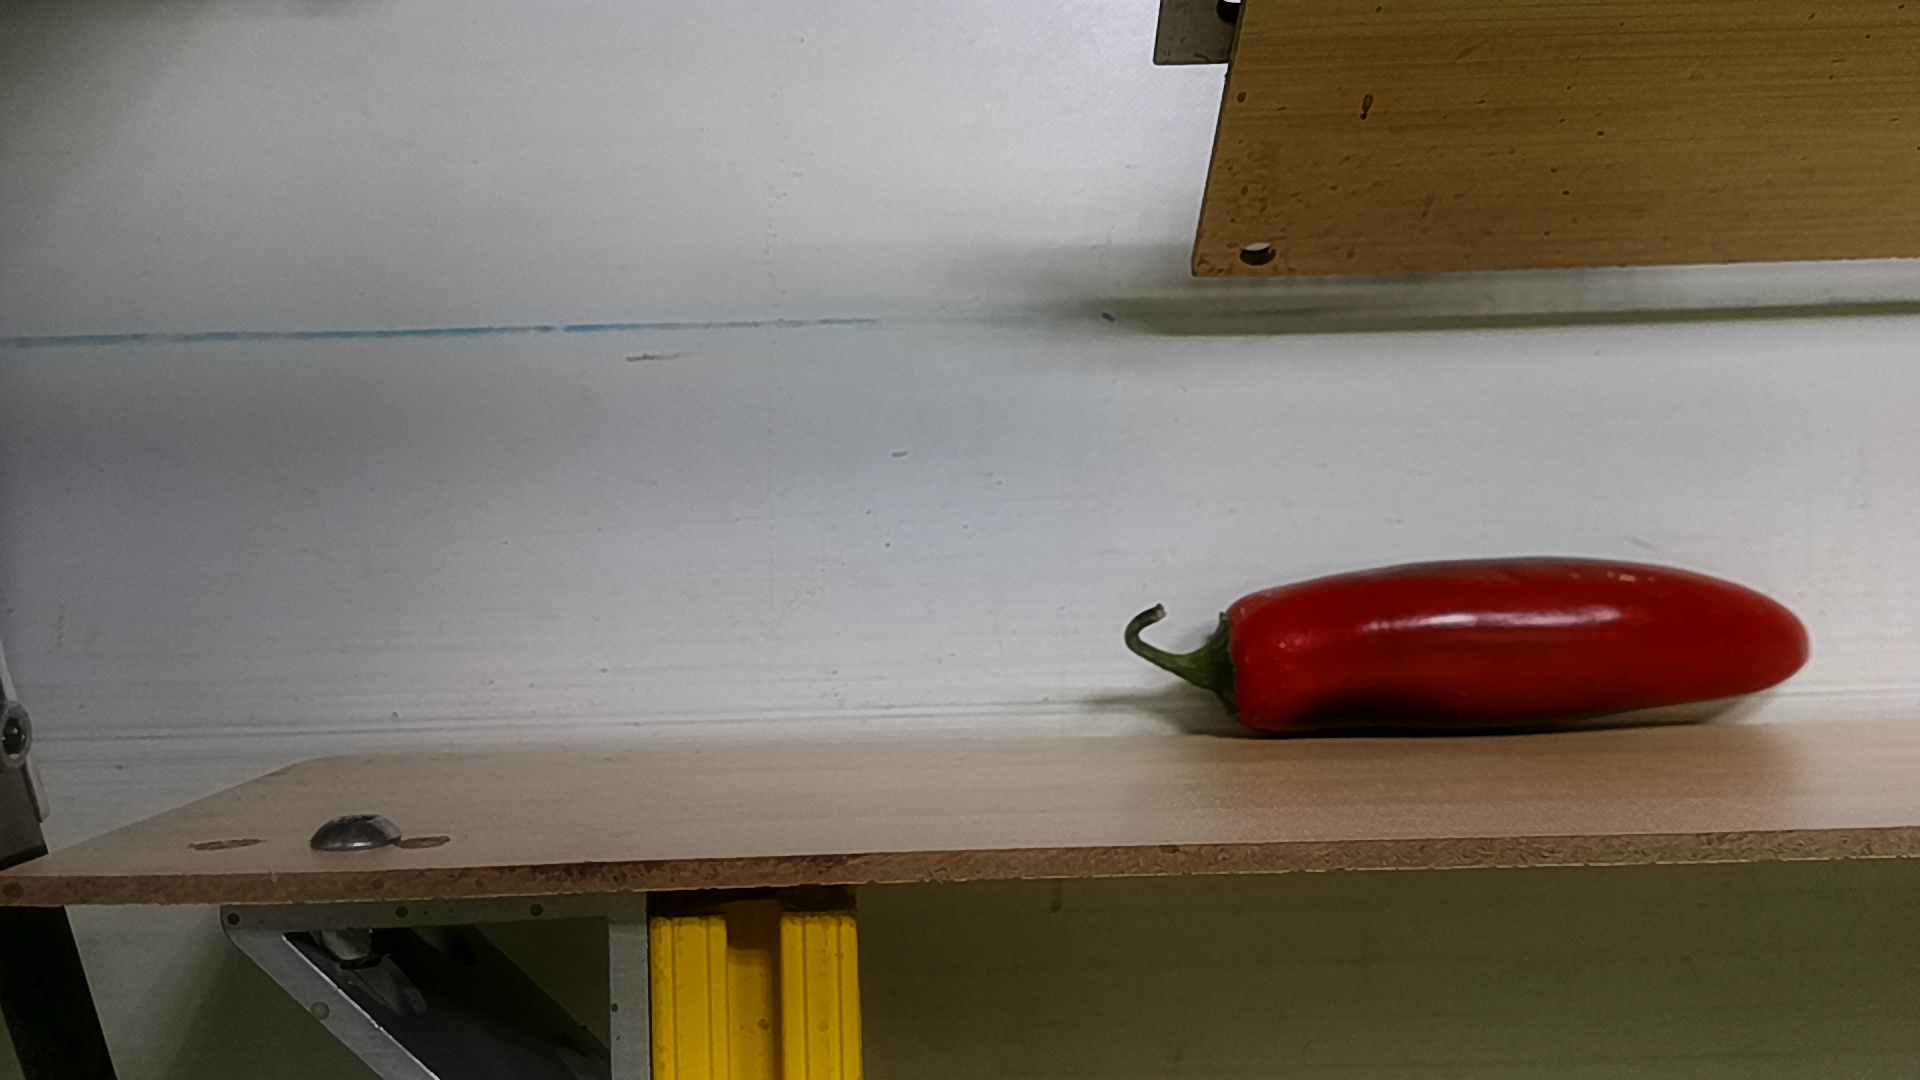Cut Point: (1189, 582, 1284, 738)
